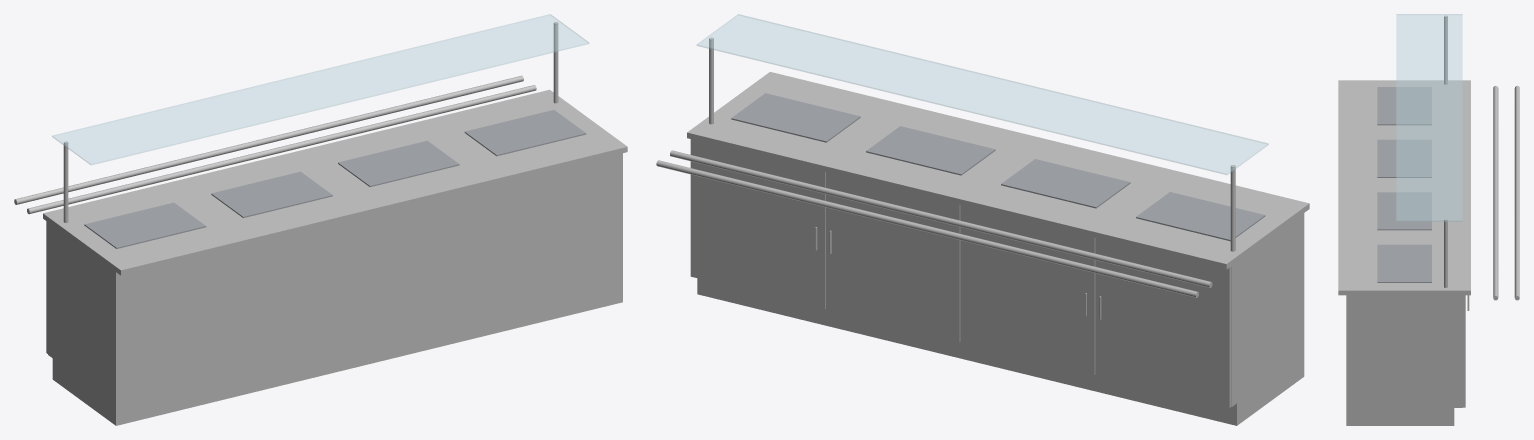
File: school.canteen.servery.glb
3 views of the same model, side by side, from view 1: azimuth 30°, elevation 25°; view 2: azimuth 150°, elevation 25°; view 3: azimuth 270°, elevation 25° (orthographic). The views are drawn at different scales.
Parts seen in each view (by area): view 1: counter__steel_stainless, gantry__glass, gantry__steel_galvanised, gantry__steel_stainless; view 2: counter__steel_stainless, gantry__glass, gantry__steel_galvanised, gantry__steel_stainless; view 3: counter__steel_stainless, gantry__glass, gantry__steel_galvanised, gantry__steel_stainless.
Boxes of the visible parts, <box> form: counter__steel_stainless: <box>14,75,627,425</box>; gantry__glass: <box>52,14,588,165</box>; gantry__steel_galvanised: <box>84,110,586,248</box>; gantry__steel_stainless: <box>63,22,558,222</box>; counter__steel_stainless: <box>656,72,1309,425</box>; gantry__glass: <box>697,14,1268,174</box>; gantry__steel_galvanised: <box>731,93,1265,241</box>; gantry__steel_stainless: <box>709,37,1235,251</box>; counter__steel_stainless: <box>1338,80,1519,425</box>; gantry__glass: <box>1396,14,1462,221</box>; gantry__steel_galvanised: <box>1377,87,1431,282</box>; gantry__steel_stainless: <box>1444,15,1447,287</box>.
Bounding box in the file's own units: 3 × 1.35 × 1.09.
